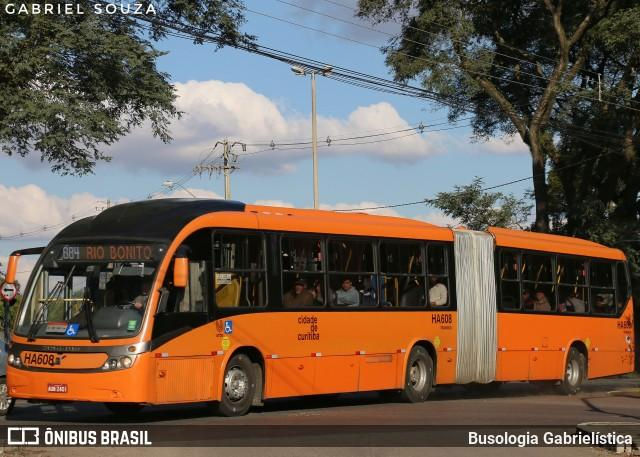RIO BONITO: (81, 242, 155, 265)
